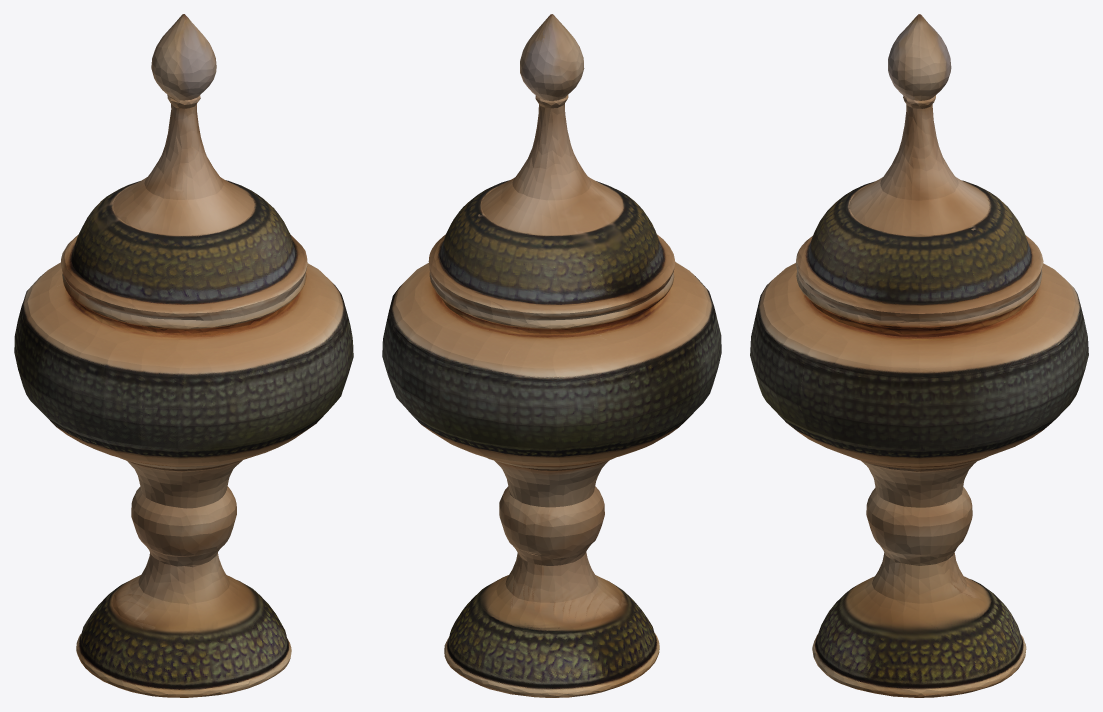
The picture shows the model from 3 angles, left to right: view 1: azimuth 30°, elevation 25°; view 2: azimuth 150°, elevation 25°; view 3: azimuth 270°, elevation 25°; orthographic projection.
Visible parts, largest first — view 1: geometry_0.004; view 2: geometry_0.004; view 3: geometry_0.004.
Boxes of the visible parts, x1=… form: geometry_0.004: x1=14, y1=14, x2=353, y2=697; geometry_0.004: x1=382, y1=14, x2=721, y2=697; geometry_0.004: x1=750, y1=14, x2=1088, y2=697.
Bounding box in the file's own units: 0.4766 × 0.9941 × 0.4768.
Materials: 1 (1 with a texture image).
